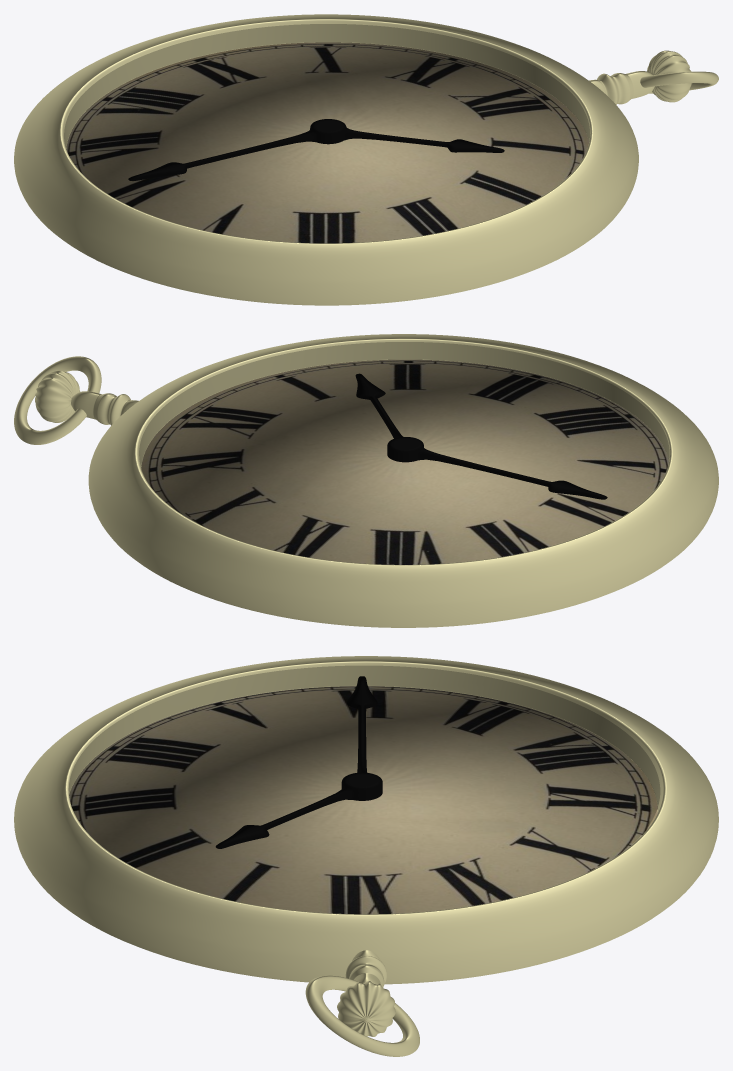
Rendered from intro_pocket_watch.glb.
The picture shows the model from 3 angles, top to bottom: view 1: azimuth 30°, elevation 25°; view 2: azimuth 150°, elevation 25°; view 3: azimuth 270°, elevation 25°; orthographic projection. The views are drawn at different scales.
Visible parts, largest first — view 1: glass, dial, case, hand_minute, crown, neck, hand_hour, bow, hub; view 2: glass, dial, case, bow, crown, hand_minute, neck, hub, hand_hour; view 3: glass, dial, case, bow, crown, hand_hour, hand_minute, neck, hub.
Part boxes in pixels (<box>): glass: <box>64,24,589,242</box>; dial: <box>66,42,588,243</box>; case: <box>14,14,638,305</box>; hand_minute: <box>128,131,314,180</box>; crown: <box>647,50,691,102</box>; neck: <box>589,71,654,104</box>; hand_hour: <box>343,128,504,152</box>; bow: <box>640,71,718,93</box>; hub: <box>306,119,347,144</box>; glass: <box>139,342,669,564</box>; dial: <box>141,359,668,564</box>; case: <box>88,334,718,627</box>; bow: <box>14,356,101,444</box>; crown: <box>35,370,80,422</box>; hand_minute: <box>420,449,607,499</box>; neck: <box>71,391,138,425</box>; hub: <box>387,437,426,462</box>; hand_hour: <box>355,373,403,438</box>; glass: <box>69,666,659,913</box>; dial: <box>69,686,657,914</box>; case: <box>14,656,718,984</box>; bow: <box>305,975,419,1056</box>; crown: <box>337,981,395,1036</box>; hand_hour: <box>215,787,351,848</box>; hand_minute: <box>346,676,377,772</box>; neck: <box>345,950,387,987</box>; hub: <box>341,771,382,800</box>.
Bounding box in the file's own units: 2.38 × 0.3183 × 1.98.
4 materials, 1 textured.
